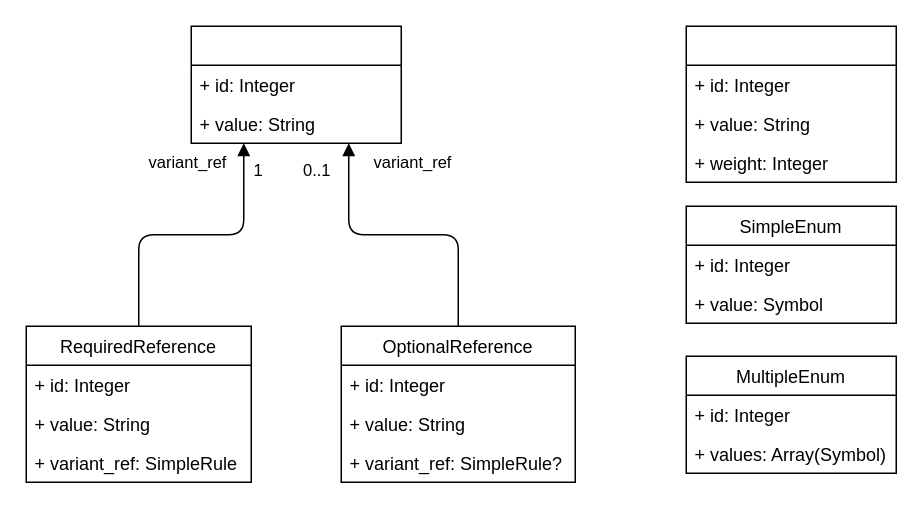
Some shapes in this 923 by 513 pixel diagram are drawn without their labels. Here are the shapes that lost their labels. From the top down, the box of each, then its label:
(190, 25, 401, 143): SimpleRule
(685, 25, 896, 182): WeightedRule
